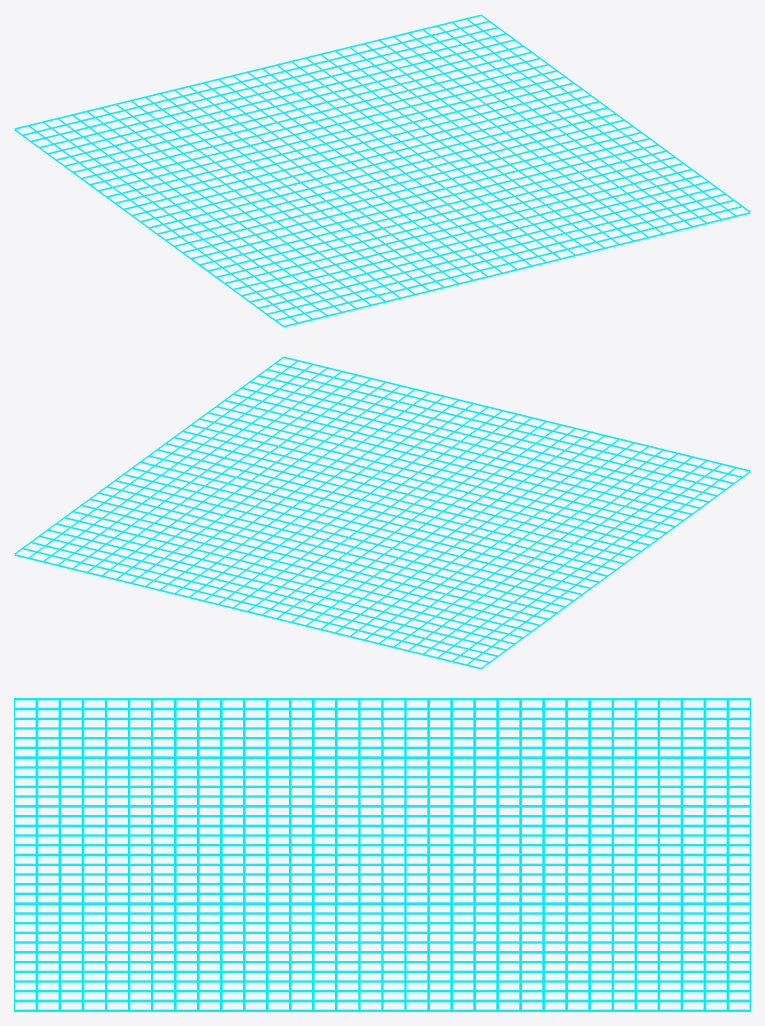
Rendered from floor.glb.
3 views of the same model, one above another, from view 1: azimuth 30°, elevation 25°; view 2: azimuth 150°, elevation 25°; view 3: azimuth 270°, elevation 25° (orthographic). The views are drawn at different scales.
Visible parts, largest first — view 1: Plane; view 2: Plane; view 3: Plane.
Part boxes in pixels (x1=…): Plane: x1=14, y1=14, x2=750, y2=327; Plane: x1=14, y1=356, x2=750, y2=669; Plane: x1=14, y1=698, x2=750, y2=1011.
Bounding box in the file's own units: 50.12 × 0.1754 × 50.12.
